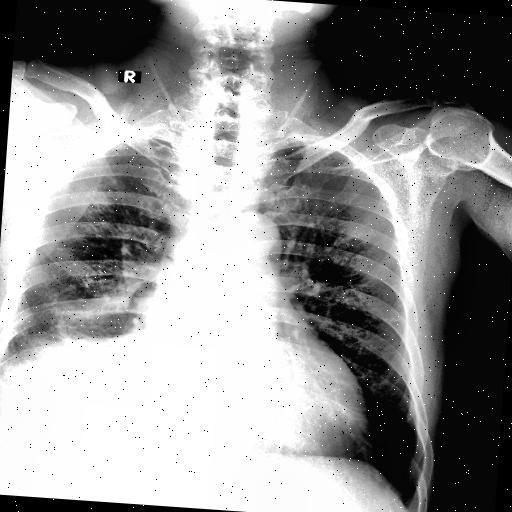0- Aortic enlargement: (222, 212, 284, 264)
13- Pulmonary fibrosis: (76, 187, 138, 241)
3- Cardiomegaly: (126, 312, 376, 458), (117, 326, 373, 452), (110, 344, 372, 460)
7- Lung Opacity: (1, 260, 156, 372), (2, 292, 144, 382), (0, 316, 147, 391)
